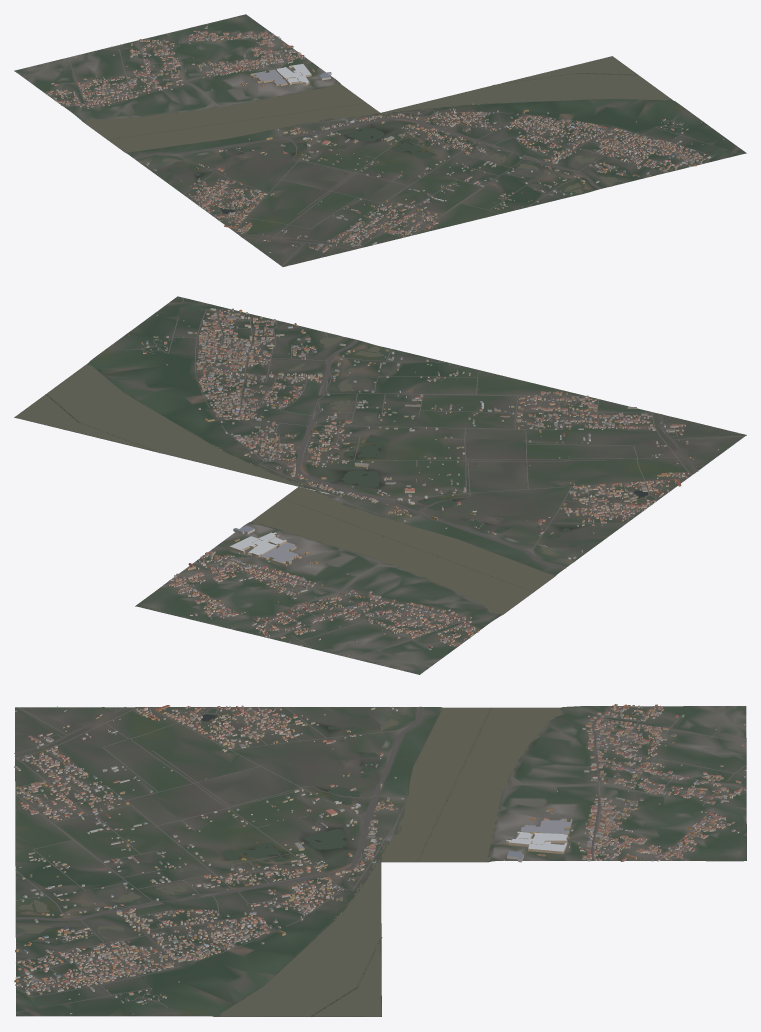
3 renders of one model, top to bottom at view 1: azimuth 30°, elevation 25°; view 2: azimuth 150°, elevation 25°; view 3: azimuth 270°, elevation 25°, orthographic. The views are drawn at different scales.
Visible parts, largest first — view 1: ground, water, buildings, roads; view 2: ground, water, buildings, roads; view 3: ground, water, buildings, roads.
Boxes of the visible parts, bbox=[...] form: ground: bbox=[14, 14, 746, 266]; water: bbox=[83, 56, 671, 213]; buildings: bbox=[43, 25, 724, 265]; roads: bbox=[48, 31, 741, 266]; ground: bbox=[14, 296, 746, 674]; water: bbox=[14, 336, 654, 614]; buildings: bbox=[128, 308, 739, 665]; roads: bbox=[125, 298, 745, 658]; ground: bbox=[15, 706, 746, 1016]; water: bbox=[17, 707, 563, 1016]; buildings: bbox=[14, 704, 746, 1014]; roads: bbox=[14, 706, 746, 1012].
Size of the model in its own units: 2821 by 29.79 by 2809.
